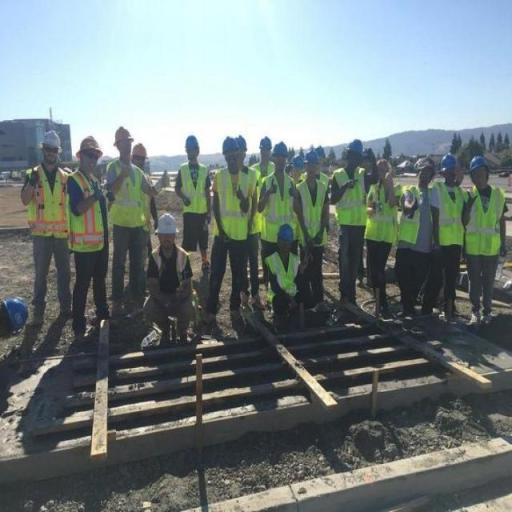helmet: (220, 132, 246, 156), (77, 134, 102, 156), (156, 212, 178, 236), (39, 128, 63, 150), (112, 123, 135, 144), (438, 152, 460, 172), (468, 153, 490, 173), (344, 136, 366, 156), (270, 138, 289, 157), (304, 149, 320, 165)
vest: (463, 185, 507, 260), (26, 164, 68, 242), (67, 170, 106, 254), (213, 167, 253, 244), (109, 163, 148, 229), (296, 175, 331, 247), (435, 186, 467, 248), (178, 163, 209, 215)
